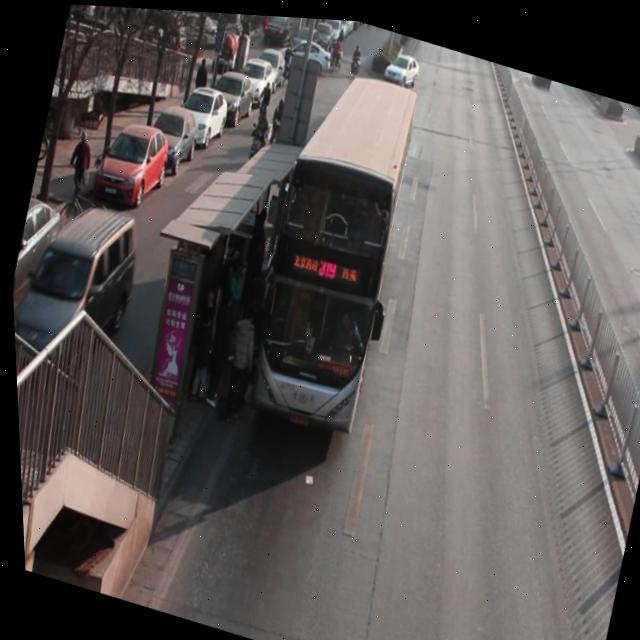car: (389, 47, 423, 86)
van: (227, 55, 432, 436)
